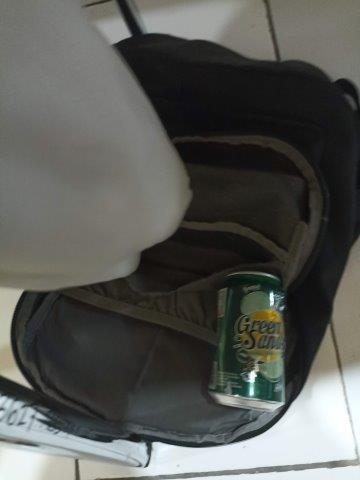kaleng: (207, 270, 286, 412)
